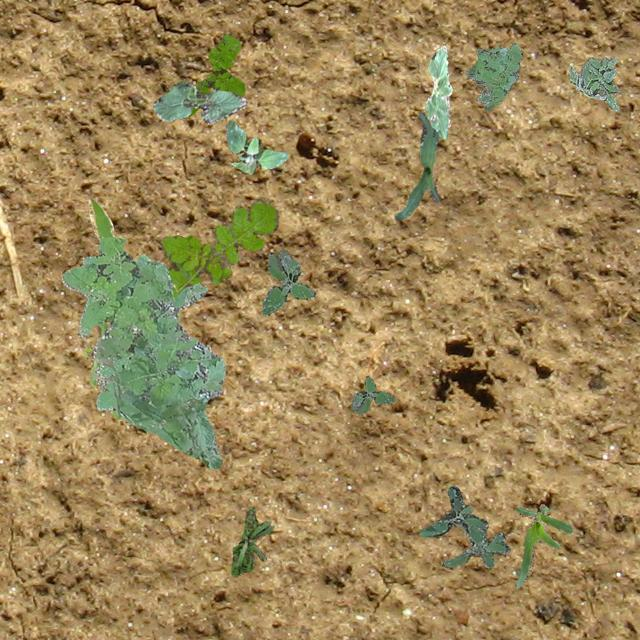crop: (84, 198, 178, 418), (514, 502, 572, 588), (394, 112, 438, 220), (152, 80, 246, 122), (424, 44, 452, 138)
weed: (61, 235, 224, 468), (160, 196, 278, 294), (418, 486, 508, 566), (184, 34, 243, 116), (466, 41, 522, 110), (260, 248, 314, 314), (224, 120, 286, 172), (230, 506, 272, 576), (568, 56, 620, 110), (350, 374, 394, 414)
